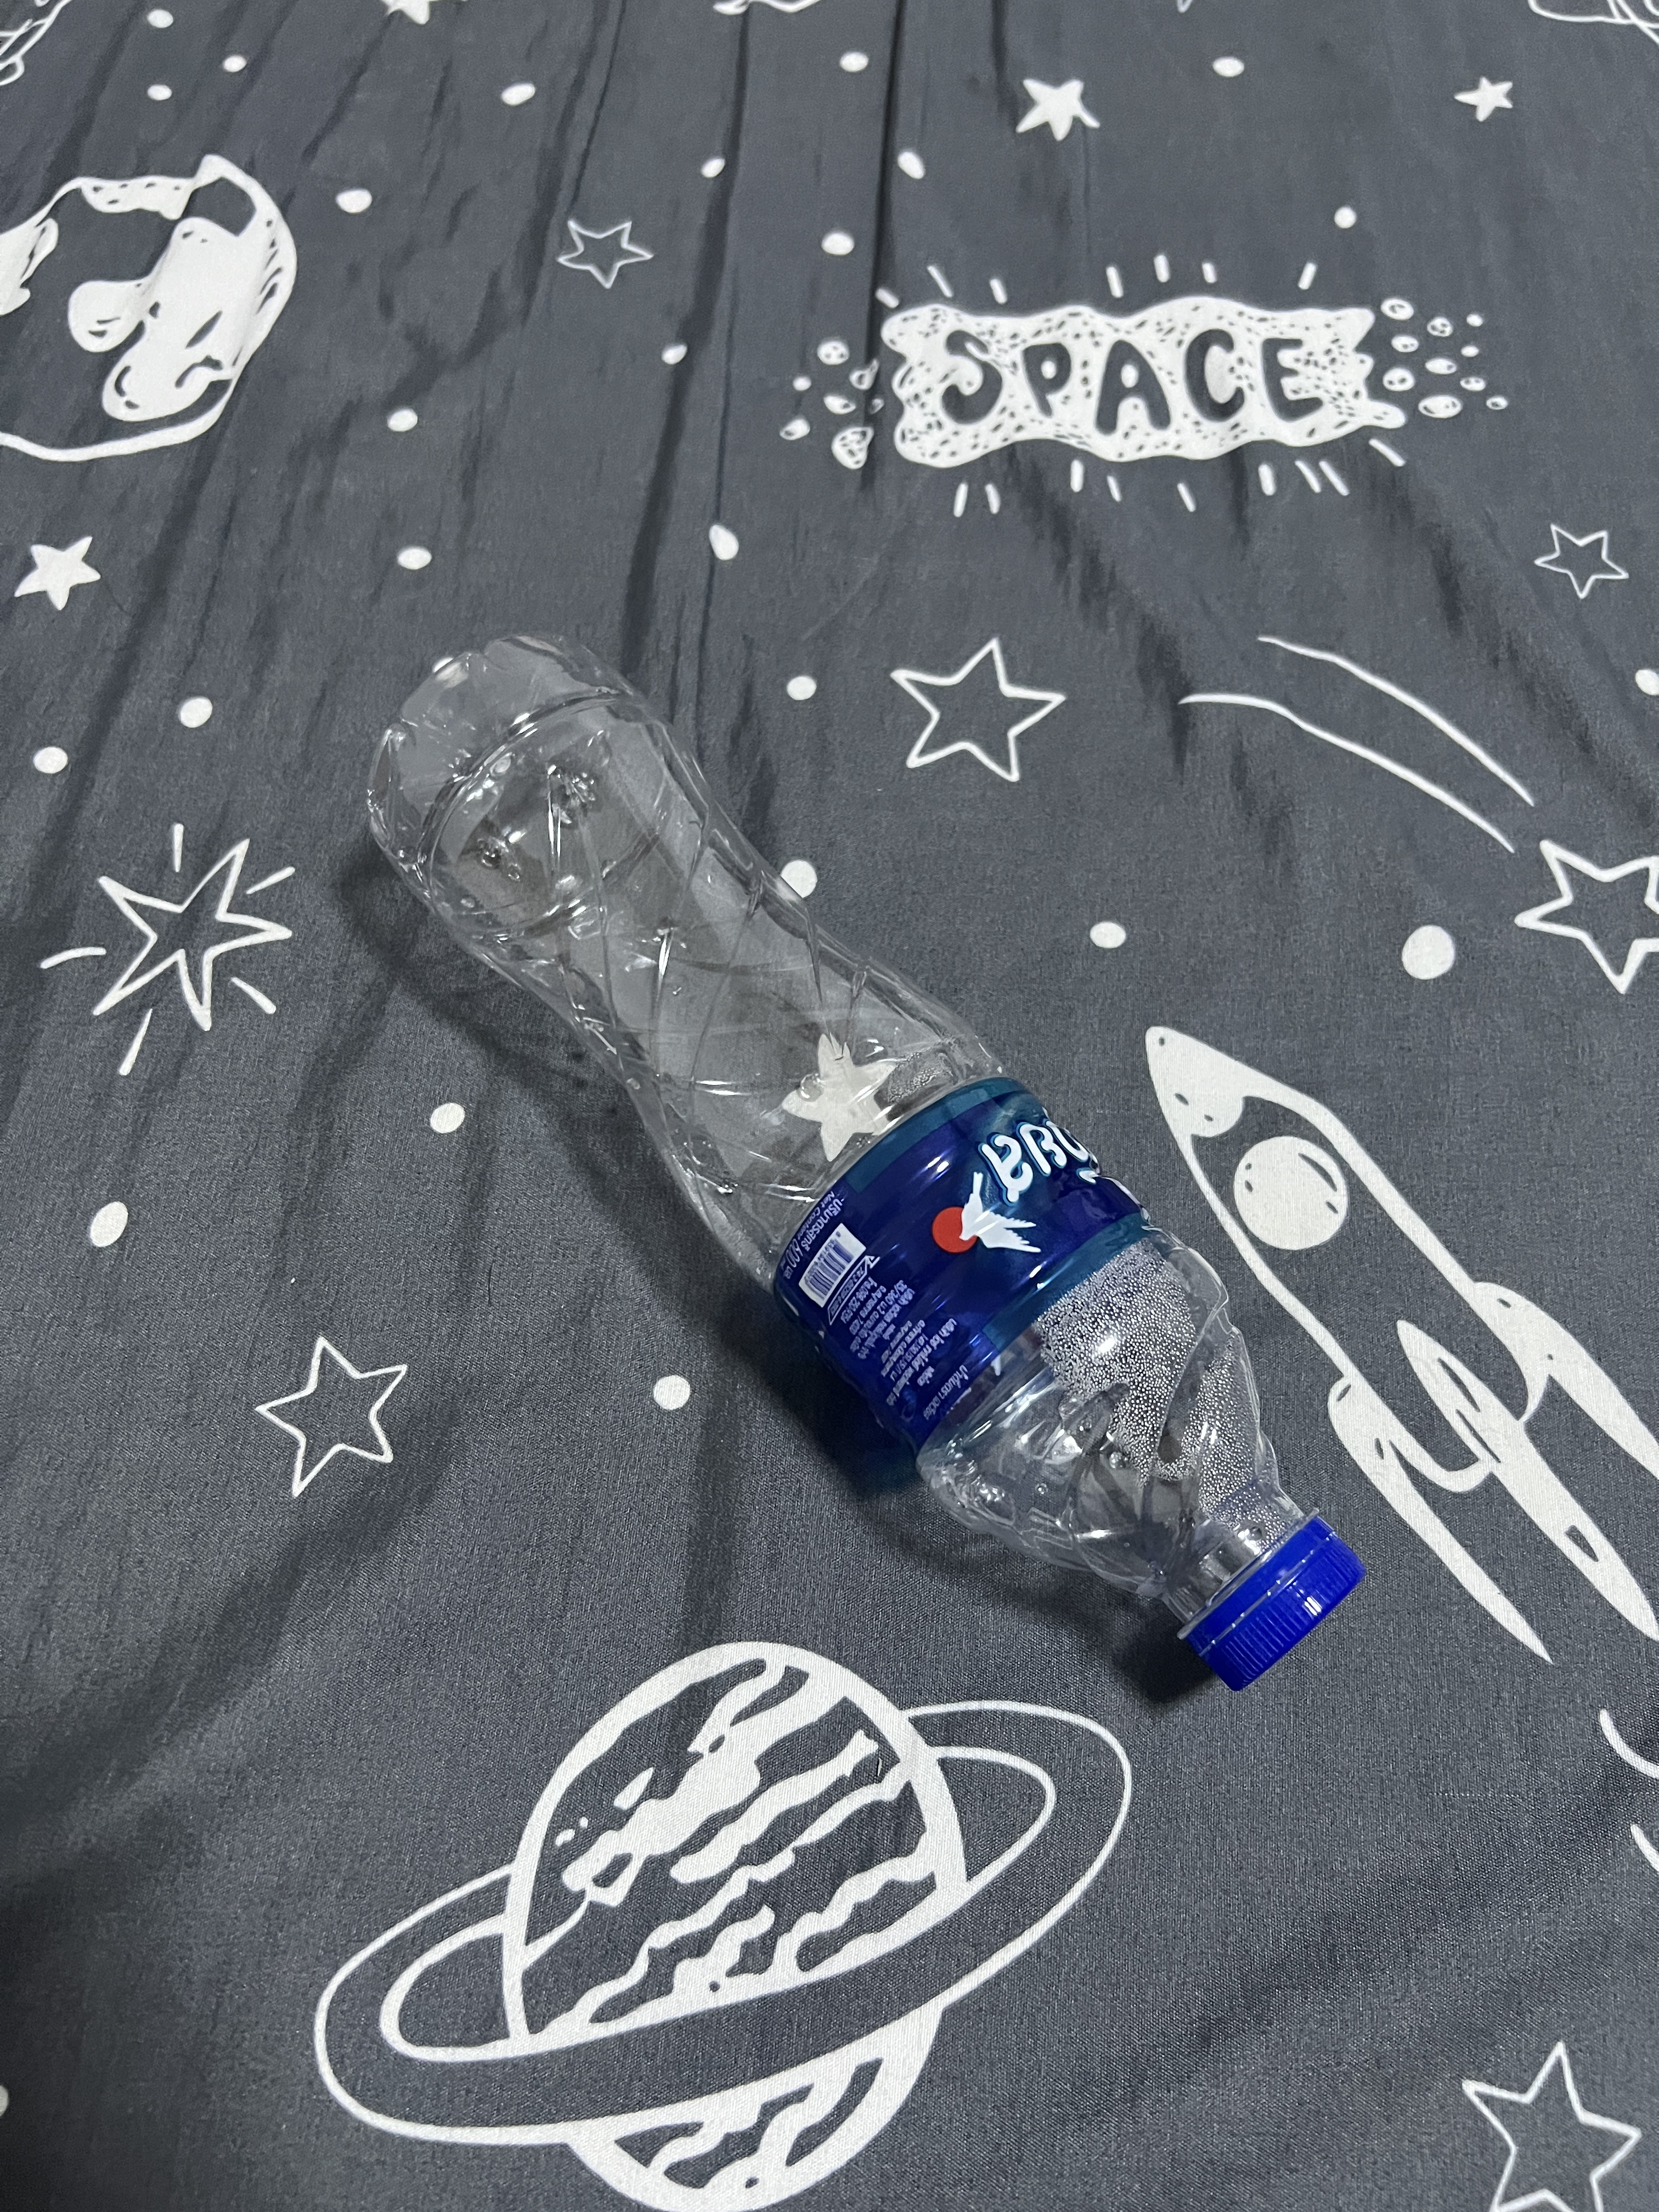plastic_bottle: (315, 568, 1380, 1737)
